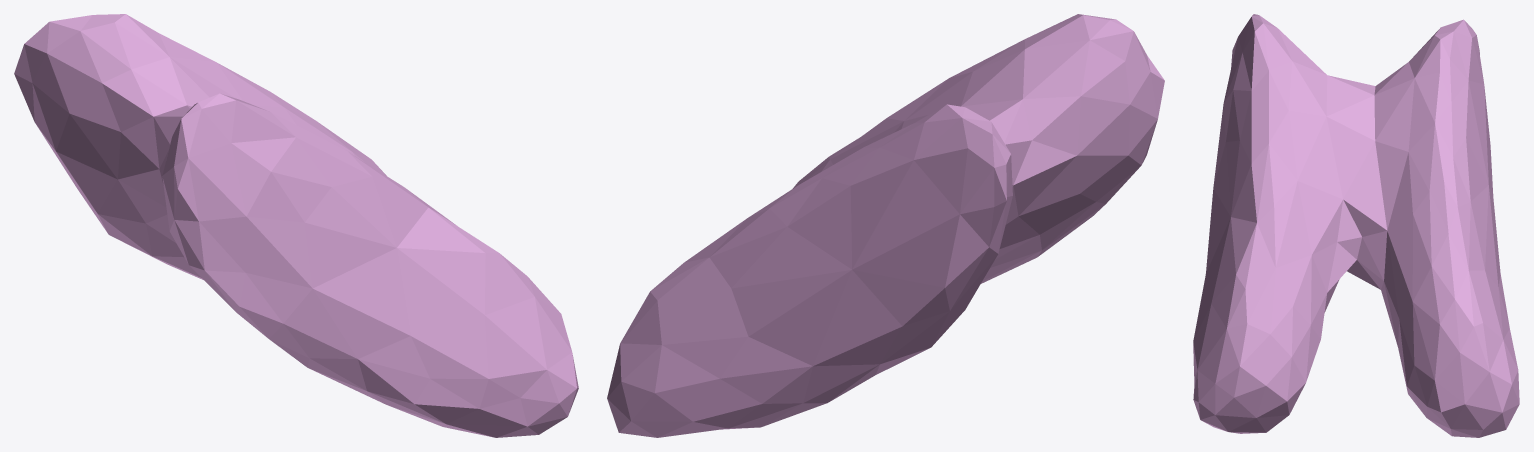
The picture shows the model from 3 angles, left to right: view 1: azimuth 30°, elevation 25°; view 2: azimuth 150°, elevation 25°; view 3: azimuth 270°, elevation 25°; orthographic projection. The views are drawn at different scales.
Visible parts, largest first — view 1: 587.obj; view 2: 587.obj; view 3: 587.obj.
Boxes of the visible parts, x1=… form: 587.obj: x1=14, y1=14, x2=578, y2=437; 587.obj: x1=607, y1=14, x2=1164, y2=437; 587.obj: x1=1193, y1=14, x2=1519, y2=437.
Bounding box in the file's own units: 646 × 612 × 600.
